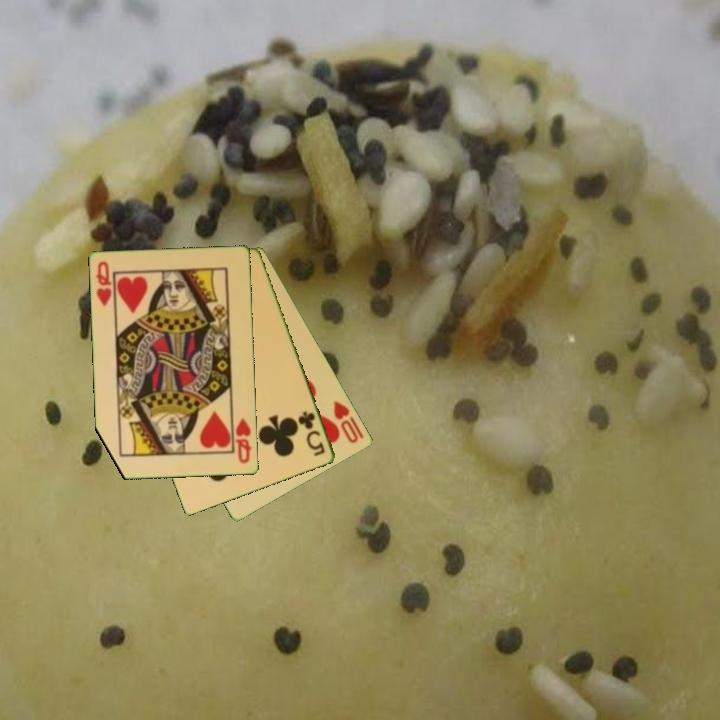10h: (330, 397, 367, 446)
5c: (295, 408, 328, 459)
Qh: (93, 258, 115, 310), (232, 415, 254, 466)
